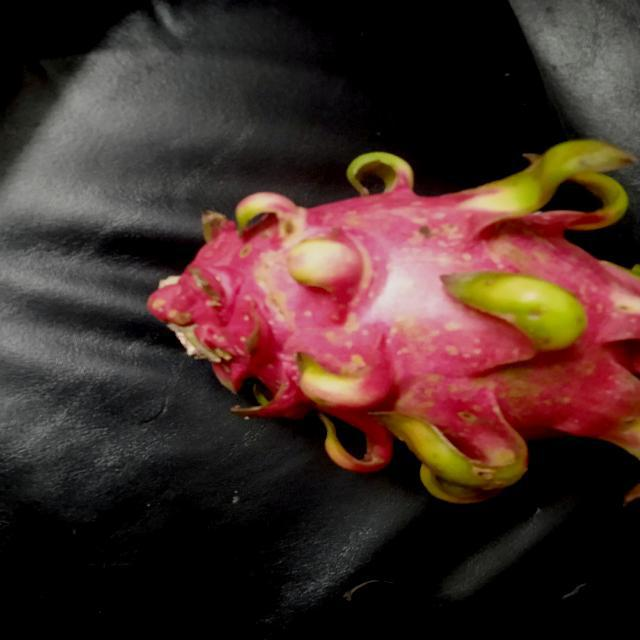do: (164, 138, 639, 494)
